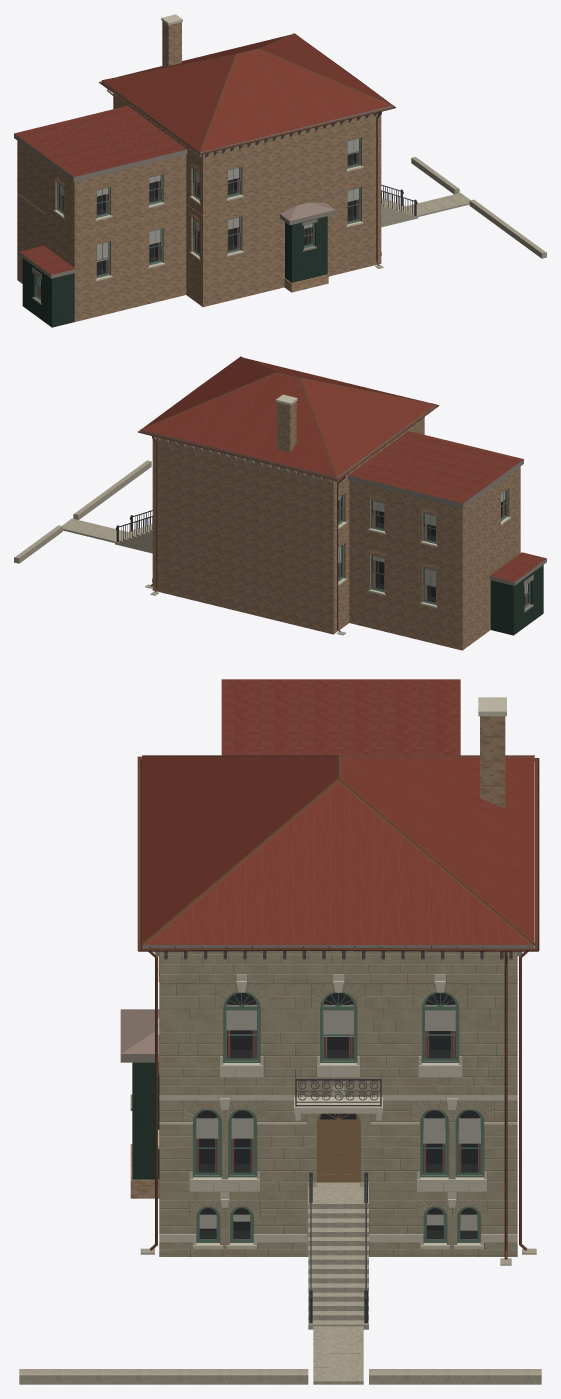
Rendered from house_1712_prairie__as_mapped_1904.glb.
3 views of the same model, one above another, from view 1: azimuth 30°, elevation 25°; view 2: azimuth 150°, elevation 25°; view 3: azimuth 270°, elevation 25° (orthographic). The views are drawn at different scales.
Parts seen in each view (by area): view 1: house_1712_prairie__as_mapped_1904; view 2: house_1712_prairie__as_mapped_1904; view 3: house_1712_prairie__as_mapped_1904.
Part boxes in pixels (x1,y1,x2,y2): house_1712_prairie__as_mapped_1904: [14, 14, 546, 327]; house_1712_prairie__as_mapped_1904: [14, 356, 546, 650]; house_1712_prairie__as_mapped_1904: [19, 679, 541, 1384].
Size of the model in its own units: 30.55 by 14.09 by 15.52.
Materials: 26 (15 with a texture image).
